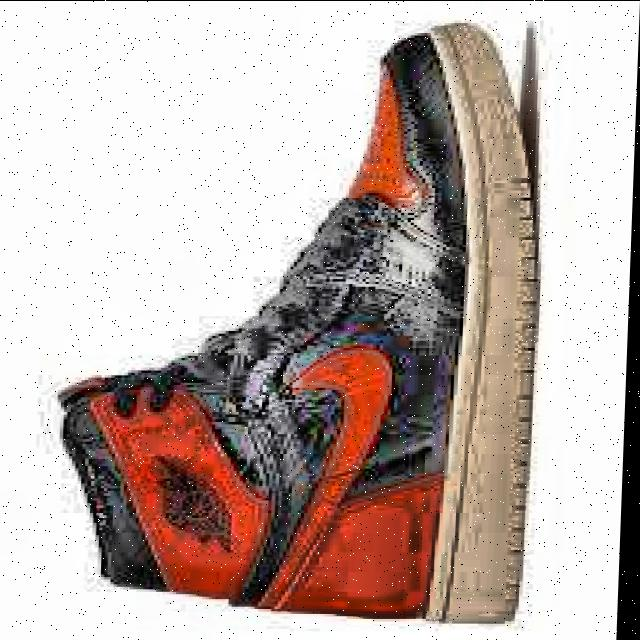shoes: (42, 12, 567, 629)
